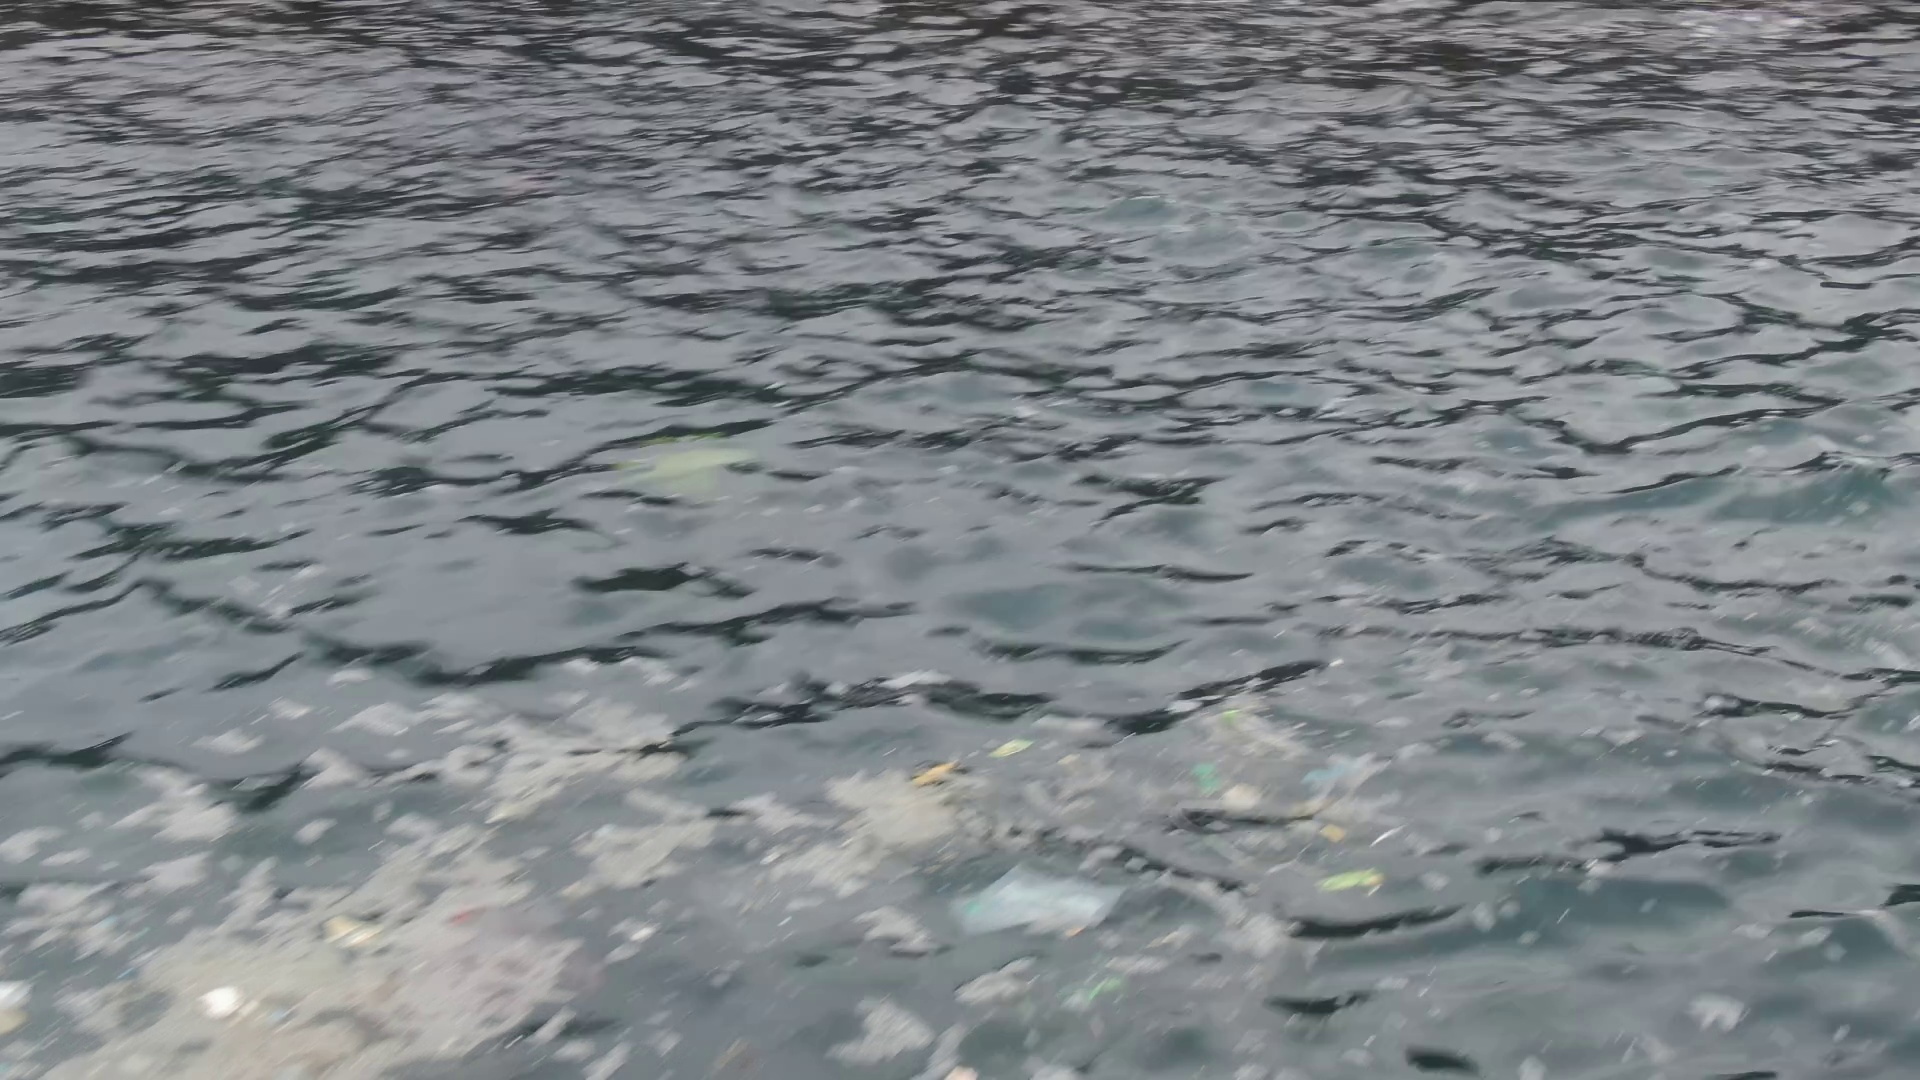garbage: (1189, 702, 1391, 909), (955, 860, 1112, 928), (637, 443, 753, 491), (324, 910, 380, 952), (202, 982, 248, 1013)
